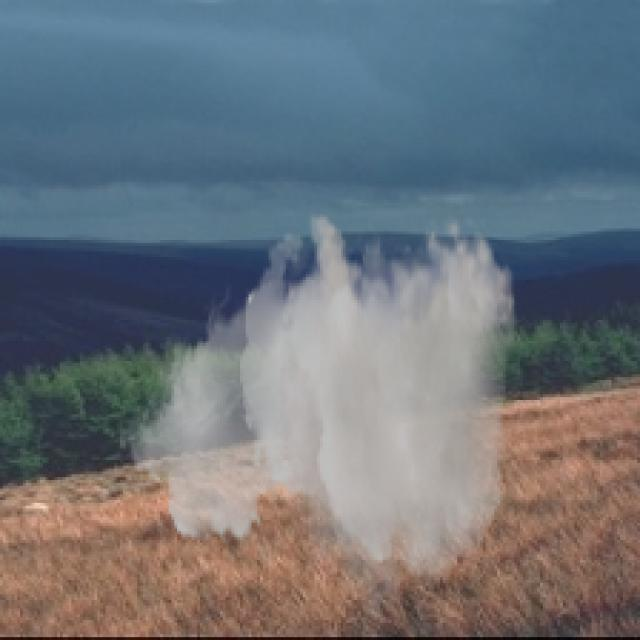Smoke: (117, 212, 517, 632)
